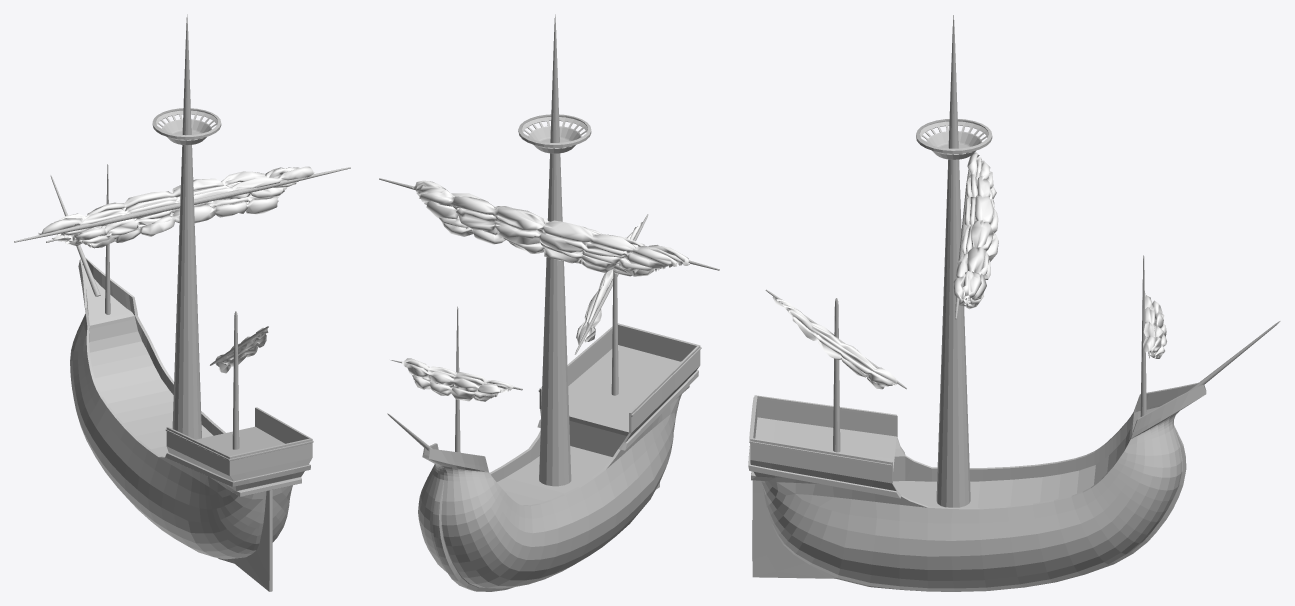
File: boat.obj
The picture shows the model from 3 angles, left to right: view 1: azimuth 30°, elevation 25°; view 2: azimuth 150°, elevation 25°; view 3: azimuth 270°, elevation 25°; orthographic projection. The views are drawn at different scales.
Parts seen in each view (by area): view 1: Default_2, Default; view 2: Default_2, Default; view 3: Default_2, Default.
Boxes of the visible parts, <box> form: Default_2: <box>14,14,350,591</box>; Default: <box>38,166,315,373</box>; Default_2: <box>379,14,719,591</box>; Default: <box>402,180,690,401</box>; Default_2: <box>748,15,1280,591</box>; Default: <box>772,152,1166,389</box>.
Size of the model in its own units: 5.46 by 8.24 by 6.9.
